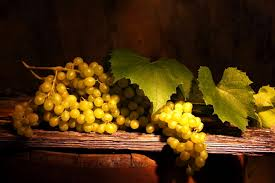grapes: (10, 52, 154, 148), (163, 95, 217, 174)
